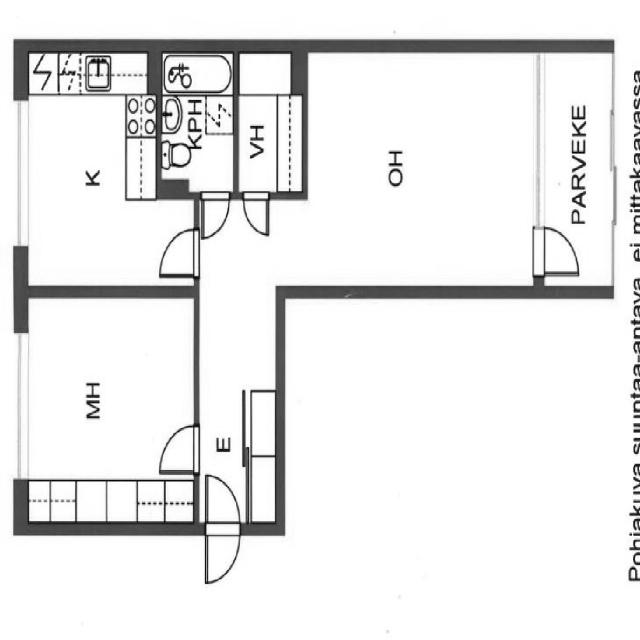door: (202, 469, 244, 587), (154, 416, 202, 477), (534, 225, 581, 282), (155, 224, 200, 279), (198, 190, 232, 242), (240, 190, 272, 239)
window: (530, 48, 550, 228), (8, 325, 28, 486), (13, 94, 30, 248)
zone: (308, 42, 542, 290), (22, 287, 198, 524), (22, 53, 158, 295), (197, 188, 285, 537), (158, 52, 236, 196), (236, 48, 303, 197)
